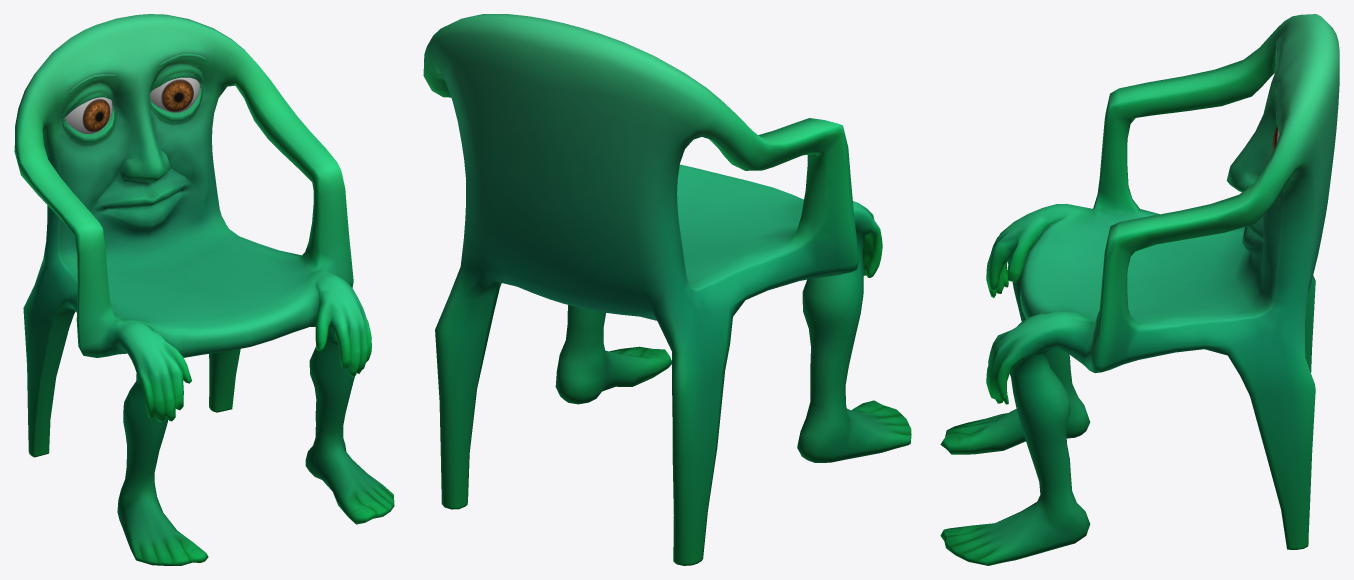
The model's file is KarKerKar_Tries.fbx.
The picture shows the model from 3 angles, left to right: view 1: azimuth 30°, elevation 25°; view 2: azimuth 150°, elevation 25°; view 3: azimuth 270°, elevation 25°; orthographic projection. The views are drawn at different scales.
Visible parts, largest first — view 1: Plane; view 2: Plane; view 3: Plane.
Part boxes in pixels (x1,y1,x2,y2): Plane: (14, 14, 394, 565); Plane: (423, 14, 911, 565); Plane: (940, 14, 1339, 565).
Bounding box in the file's own units: 69.98 × 99.59 × 77.86.
